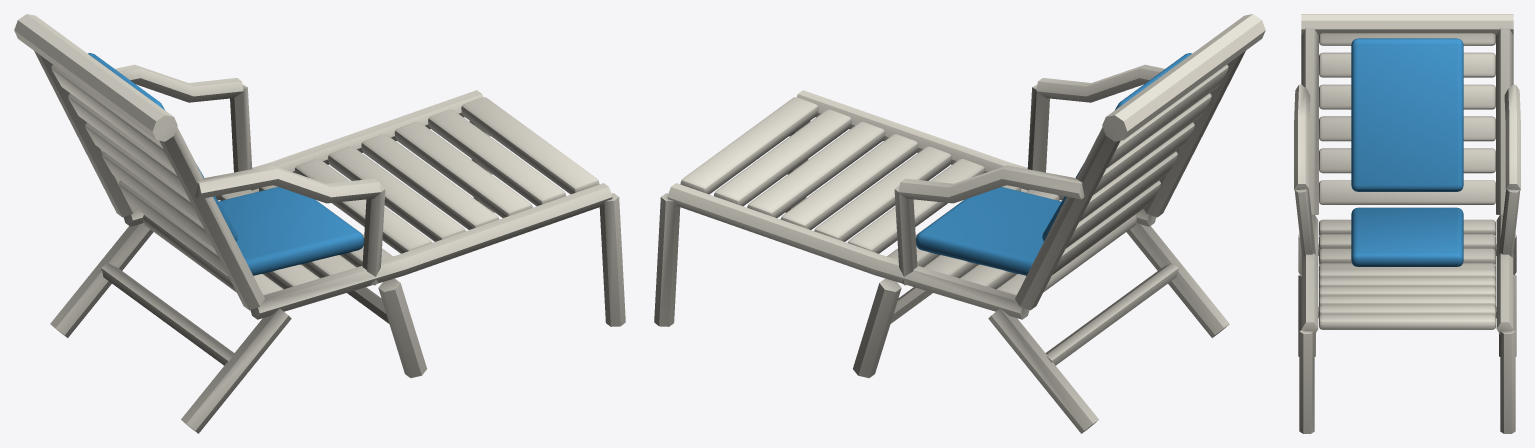
The model's file is deckchair.glb.
3 renders of one model, left to right at view 1: azimuth 30°, elevation 25°; view 2: azimuth 150°, elevation 25°; view 3: azimuth 270°, elevation 25°, orthographic. The views are drawn at different scales.
Visible parts, largest first — view 1: frame, legs, cushion; view 2: frame, legs, cushion; view 3: frame, cushion, legs.
Part boxes in pixels (x1,y1,x2,y2): frame: (14, 14, 612, 319); legs: (50, 121, 625, 433); cushion: (88, 53, 363, 275); frame: (667, 14, 1265, 319); legs: (654, 121, 1229, 433); cushion: (916, 53, 1191, 275); frame: (1294, 14, 1520, 334); cushion: (1351, 38, 1463, 266); legs: (1298, 233, 1516, 433).
Size of the model in its own units: 0.7128 by 0.4704 by 0.384.
